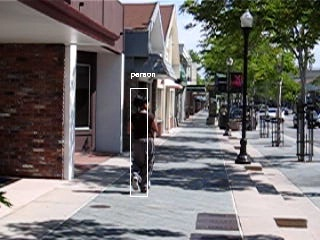person: (128, 96, 159, 193), (127, 96, 158, 193), (129, 96, 160, 193), (128, 95, 159, 192), (128, 97, 159, 194)
target_negative: (222, 67, 274, 190), (118, 230, 209, 237), (33, 205, 86, 208), (16, 194, 69, 195), (252, 237, 258, 238), (296, 236, 298, 238)
